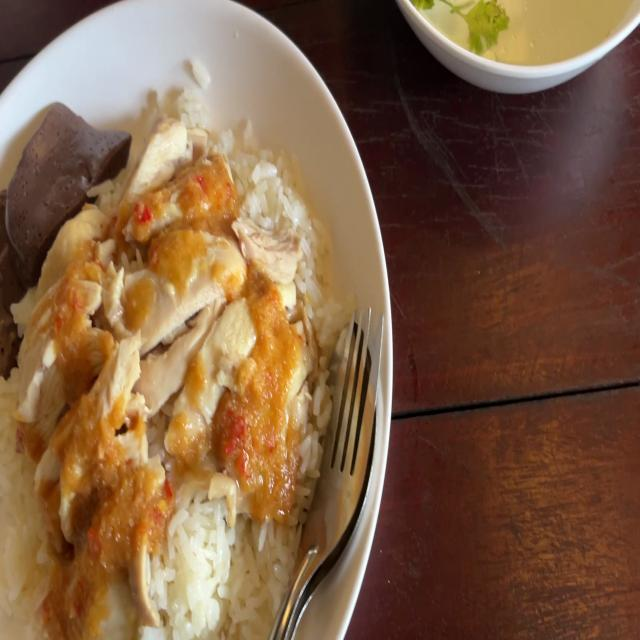boiled_chicken: (27, 137, 280, 536)
boiled_chicken_blood_jelly: (18, 104, 106, 245), (0, 186, 28, 376)
chicken_rice: (4, 46, 334, 640)
